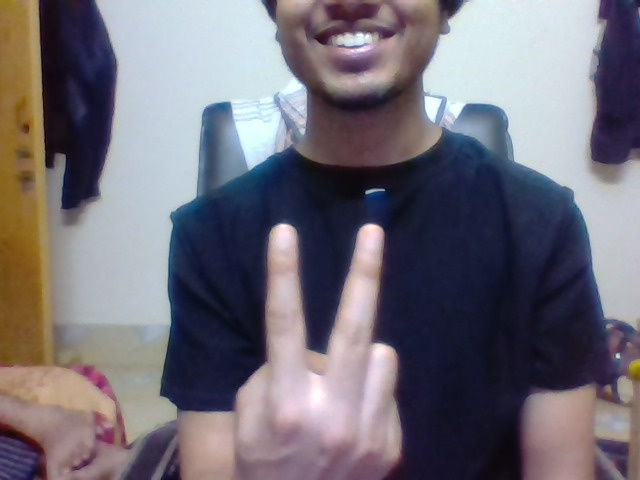V: (264, 218, 389, 373)
